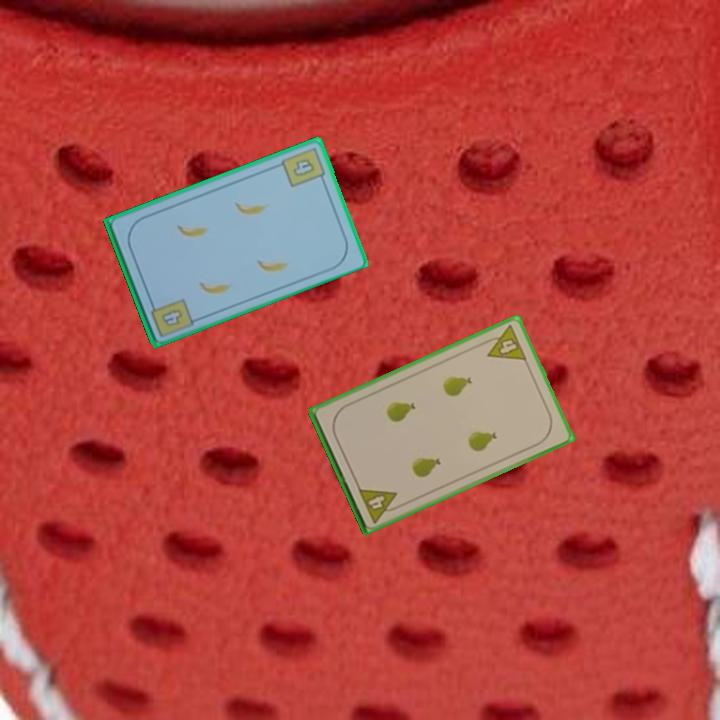4b: (278, 143, 328, 190), (158, 305, 186, 329)
4p: (478, 321, 530, 363), (354, 484, 404, 526)
